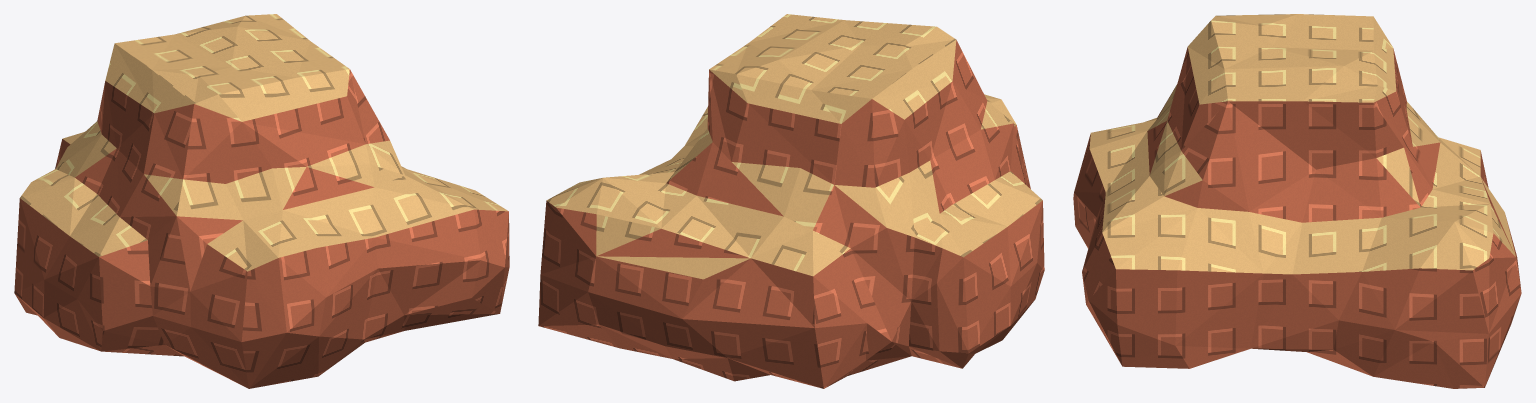
File: DesertStackSmall.glb
3 renders of one model, left to right at view 1: azimuth 30°, elevation 25°; view 2: azimuth 150°, elevation 25°; view 3: azimuth 270°, elevation 25°, orthographic. The views are drawn at different scales.
Visible parts, largest first — view 1: DesertStackSmall_Rock, DesertStackSmall_Top; view 2: DesertStackSmall_Rock, DesertStackSmall_Top; view 3: DesertStackSmall_Rock, DesertStackSmall_Top.
Part boxes in pixels (<box>): DesertStackSmall_Rock: <box>14,69,509,388</box>; DesertStackSmall_Top: <box>20,14,508,271</box>; DesertStackSmall_Rock: <box>538,40,1044,388</box>; DesertStackSmall_Top: <box>546,14,1042,279</box>; DesertStackSmall_Rock: <box>1073,47,1521,388</box>; DesertStackSmall_Top: <box>1089,14,1515,274</box>.
Size of the model in its own units: 8.47 by 5.61 by 8.91.
Materials: 2 (2 with a texture image).
